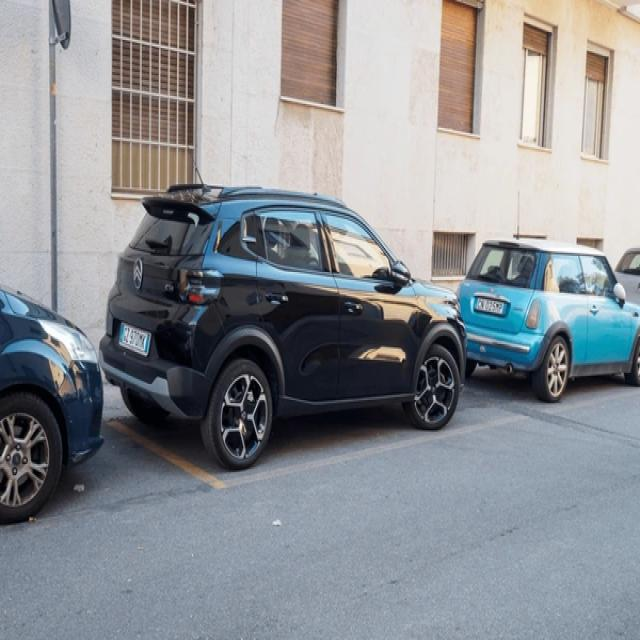citroen: (131, 257, 145, 292)
